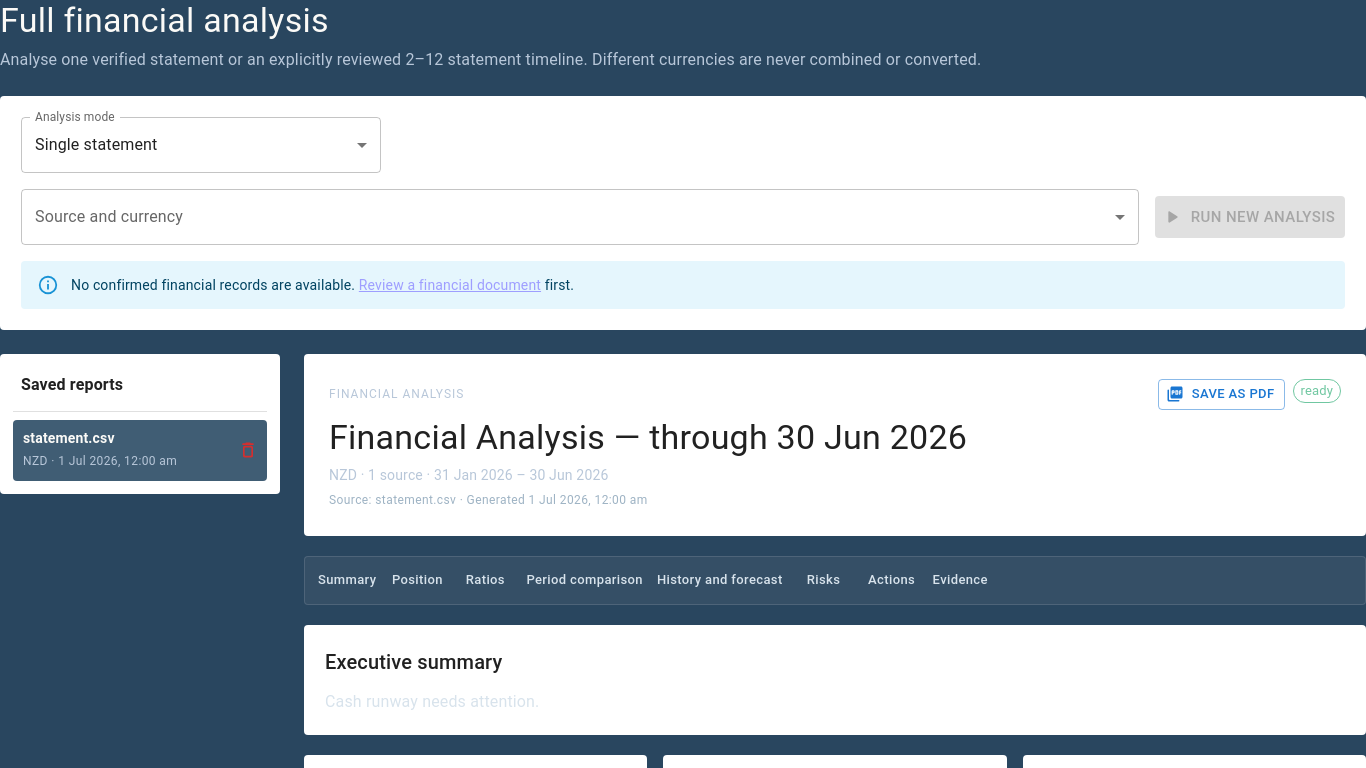
Scenario: saved financial analysis deletion › confirms and permanently removes the active saved report
Click the button named "Delete saved report for statement.csv" at x=248, y=450, box left=233, top=435, right=263, bottom=465
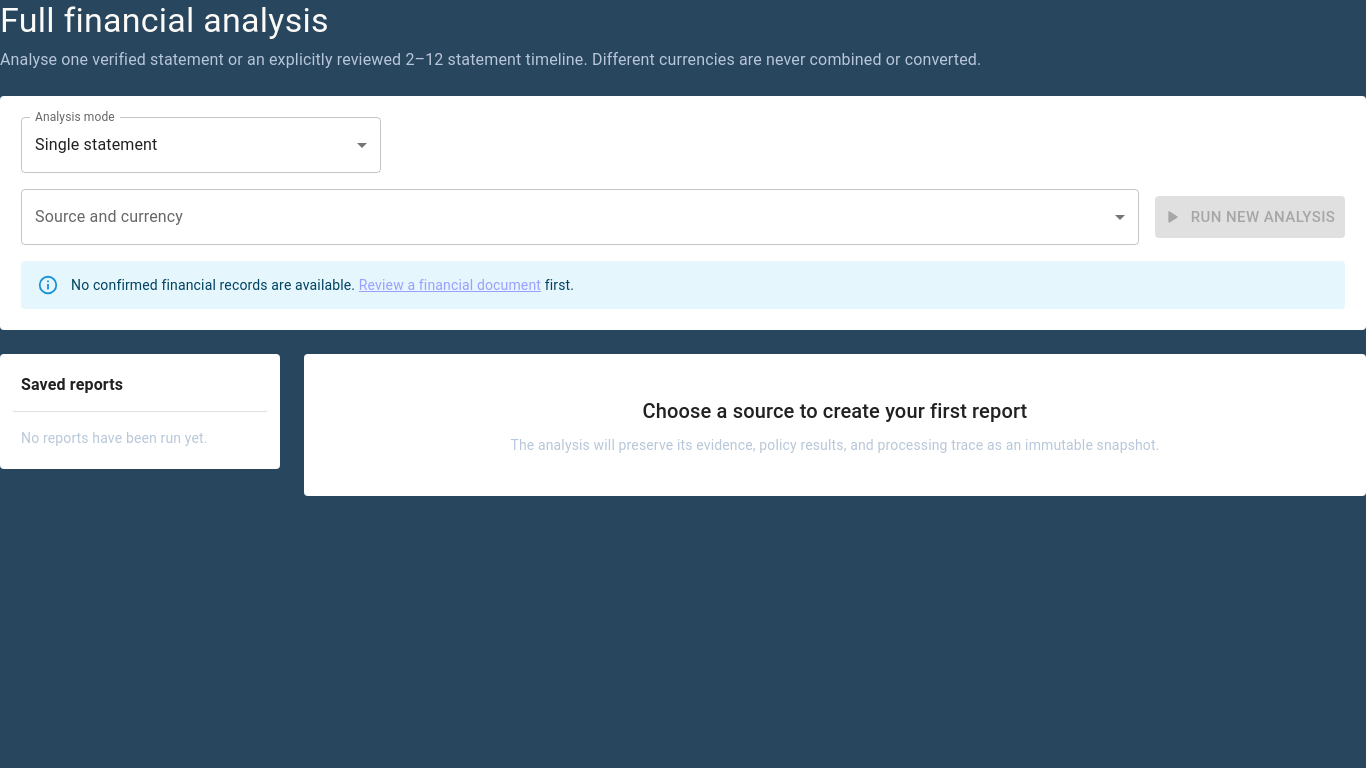
Result: the text "No reports have been run yet." is shown at left=21, top=430, right=208, bottom=446
